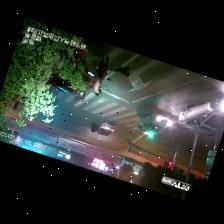person: (97, 52, 108, 82), (109, 65, 130, 75), (93, 79, 101, 95)
